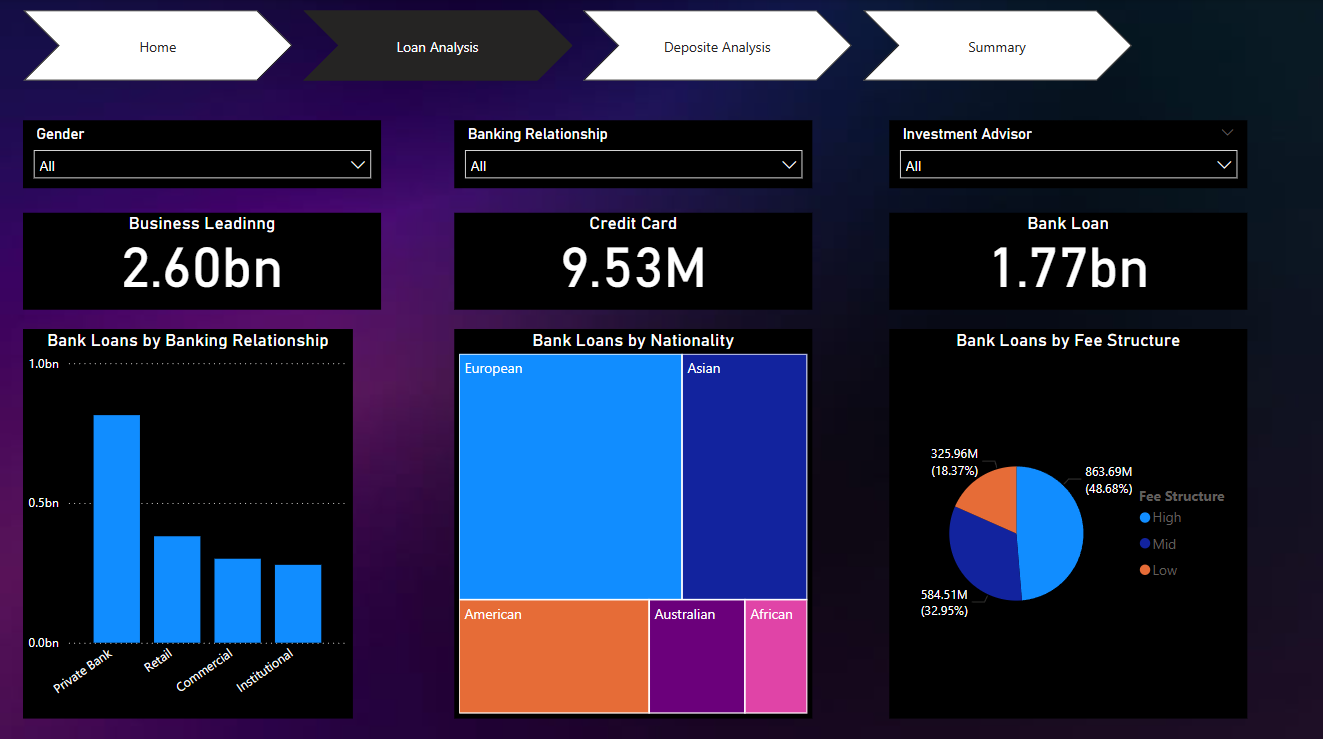

The page's visual inventory and layout, read from the dashboard file:
{"tool":"powerbi","page":{"name":"Loan Analysis","canvas":[1280,720],"ordinal":1},"visuals":[{"type":"pageNavigator","box":[24.7,11,1070.3,68.6],"z":0},{"type":"slicer","fields":{"Values":["Table_2.Gender"]},"box":[24.7,116.6,345.8,65.9],"z":1000},{"type":"slicer","fields":{"Values":["Table_3.Banking Relationship"]},"box":[440.5,116.6,345.8,65.9],"z":2000},{"type":"slicer","fields":{"Values":["Table_4.Investment Advisor"]},"box":[860.4,116.6,345.8,65.9],"z":3000},{"type":"card","title":"Business Leadinng","fields":{"Values":["Sum(Clients - Banking.Business Lending)"]},"box":[24.7,205.8,345.8,93.3],"z":4000},{"type":"card","title":"Credit Card","fields":{"Values":["Sum(Clients - Banking.Credit Card Balance)"]},"box":[440.5,205.8,345.8,93.3],"z":5000},{"type":"card","title":"Bank Loan","fields":{"Values":["Sum(Clients - Banking.Bank Loans)"]},"box":[860.4,205.8,345.8,93.3],"z":6000},{"type":"columnChart","title":" Bank Loans by Banking Relationship","fields":{"Y":["Sum(Clients - Banking.Bank Loans)"],"Category":["Table_3.Banking Relationship"]},"box":[24.7,318.4,318.4,376],"z":7000},{"type":"treemap","title":" Bank Loans by Nationality","fields":{"Values":["Sum(Clients - Banking.Bank Loans)"],"Group":["Clients - Banking.Nationality"]},"box":[440.5,318.4,345.8,376],"z":8000},{"type":"pieChart","title":"Bank Loans by Fee Structure","fields":{"Y":["Sum(Clients - Banking.Bank Loans)"],"Category":["Clients - Banking.Fee Structure"]},"box":[860.4,318.4,345.8,376],"z":9000}]}

Visuals, with their boxes in screenshot pixels (x1, y1, x2, y2), scaled from the page's 1280x720 canvas onto the 1323x739 screenshot:
pageNavigator: <bbox>26, 11, 1132, 82</bbox>
slicer - Table_2.Gender: <bbox>26, 120, 383, 187</bbox>
slicer - Table_3.Banking Relationship: <bbox>455, 120, 813, 187</bbox>
slicer - Table_4.Investment Advisor: <bbox>889, 120, 1247, 187</bbox>
"Business Leadinng" card: <bbox>26, 211, 383, 307</bbox>
"Credit Card" card: <bbox>455, 211, 813, 307</bbox>
"Bank Loan" card: <bbox>889, 211, 1247, 307</bbox>
" Bank Loans by Banking Relationship" columnChart: <bbox>26, 327, 355, 713</bbox>
" Bank Loans by Nationality" treemap: <bbox>455, 327, 813, 713</bbox>
"Bank Loans by Fee Structure" pieChart: <bbox>889, 327, 1247, 713</bbox>
